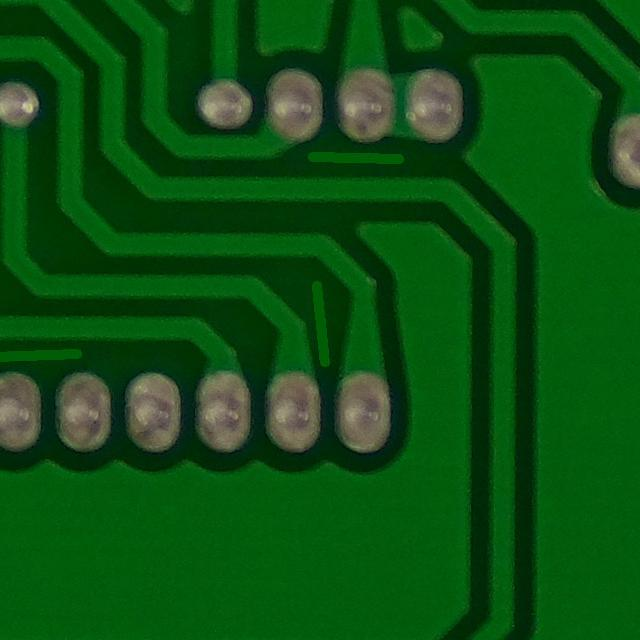spurious_copper: (296, 272, 344, 368)
